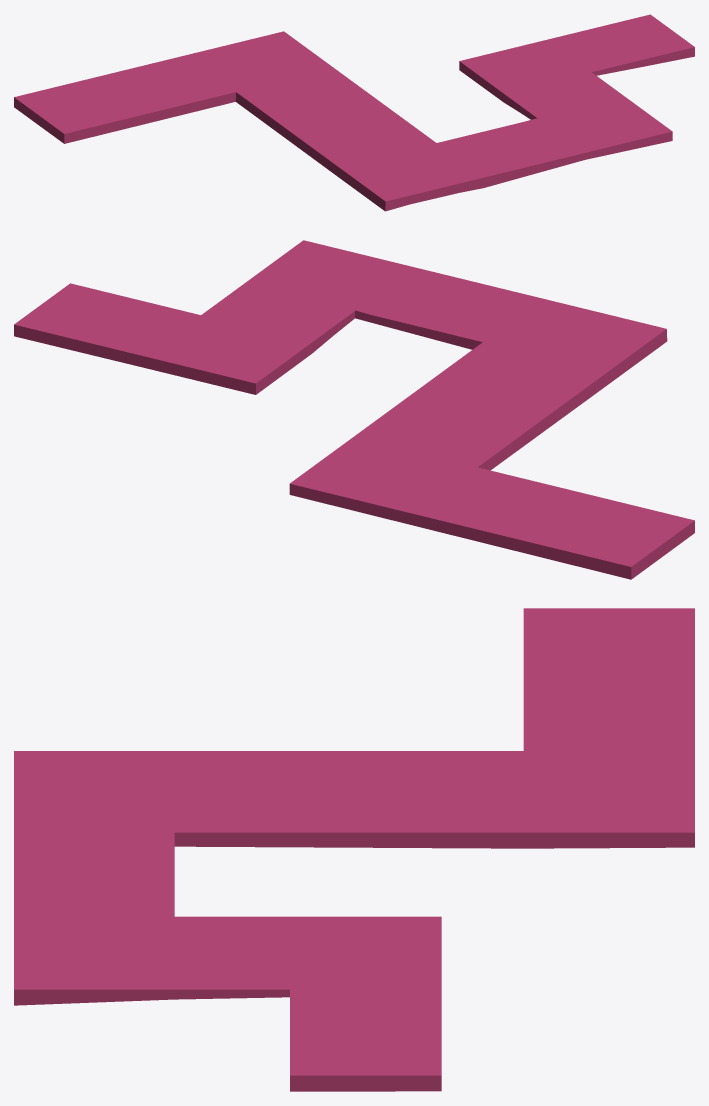
Rendered from yol3.fbx.
The picture shows the model from 3 angles, top to bottom: view 1: azimuth 30°, elevation 25°; view 2: azimuth 150°, elevation 25°; view 3: azimuth 270°, elevation 25°; orthographic projection. The views are drawn at different scales.
Visible parts, largest first — view 1: Plane.010; view 2: Plane.010; view 3: Plane.010.
Boxes of the visible parts, <box> form: Plane.010: <box>14,14,694,211</box>; Plane.010: <box>14,240,694,579</box>; Plane.010: <box>14,608,694,1091</box>.
Bounding box in the file's own units: 3362 × 66.31 × 2070.
